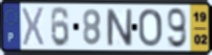6: (50, 5, 71, 49)
8: (82, 8, 103, 47)
9: (166, 6, 188, 49)
N: (104, 7, 134, 48)
O: (138, 7, 164, 48)
X: (21, 6, 46, 48)
